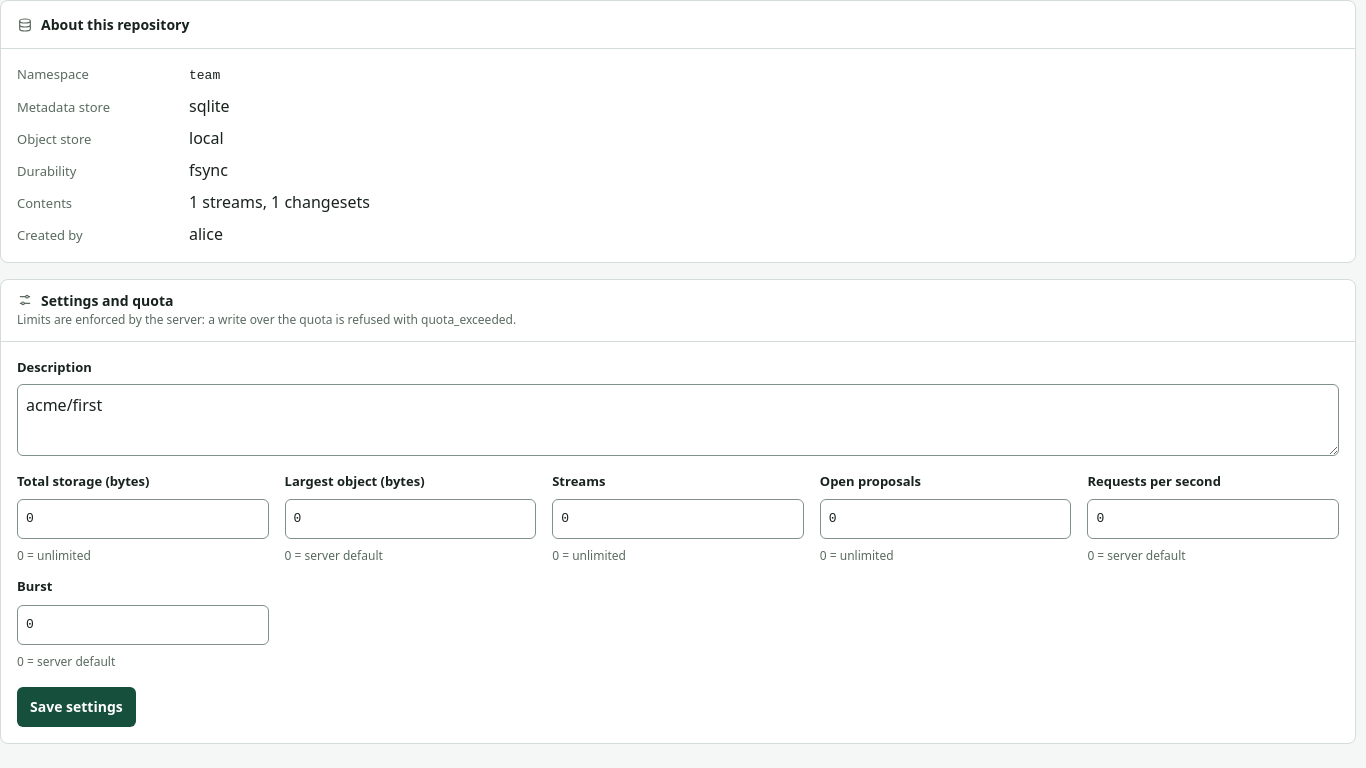
Scenario: repository settings saves › rejects invalid quota without sending a partial configuration
The image size is (1366, 768).
Step 1. Replace the text in the number field labelled "Total storage (bytes)" with "-1" → coordinates (143, 519), box [26,505,260,533]
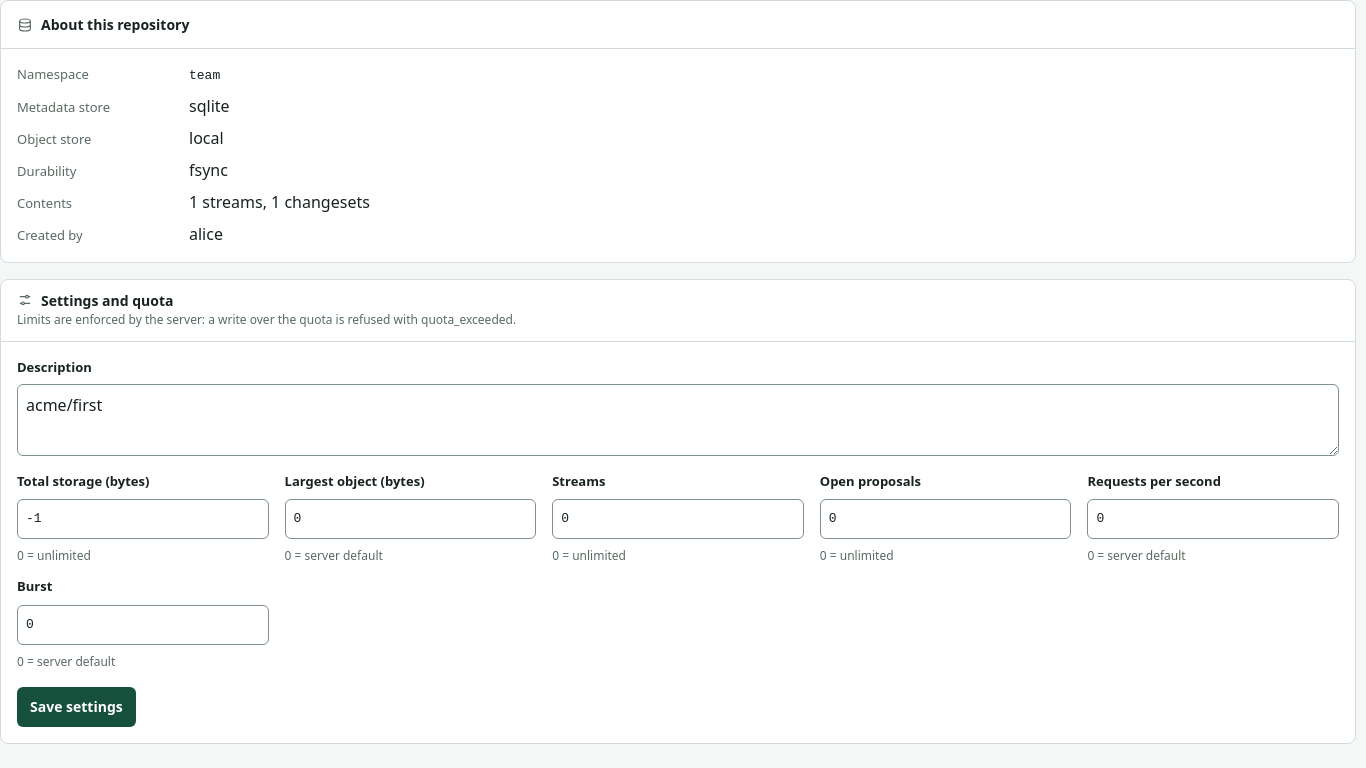
Step 2. Submit the form, box [17,358,1339,726]
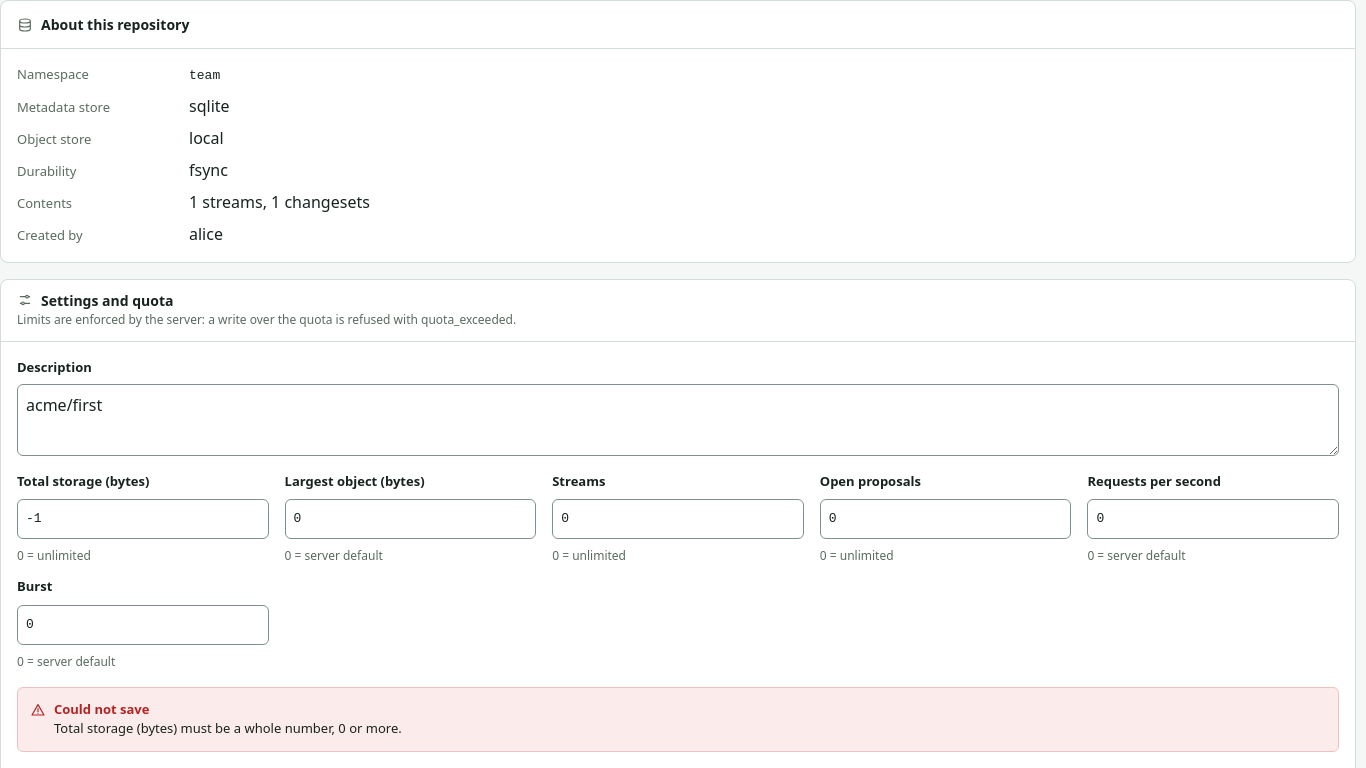
Check: the text "must be a whole number, 0 or more" is shown, box [54,719,402,737]
